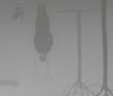person: (34, 5, 55, 64)
